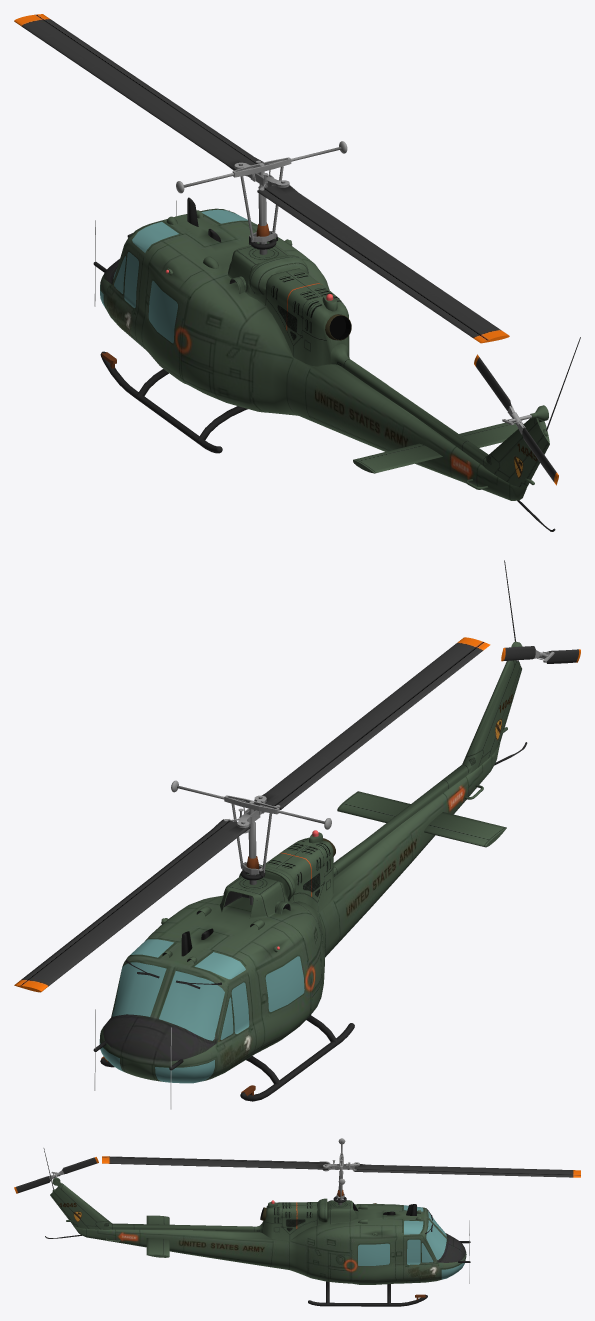
3 renders of one model, top to bottom at view 1: azimuth 30°, elevation 25°; view 2: azimuth 150°, elevation 25°; view 3: azimuth 270°, elevation 25°, orthographic. The views are drawn at different scales.
Parts seen in each view (by area): view 1: body|LineG05-FACES, rotor|Cylinder30-FACES, body|Line21-FACES, body|steklo-FACES, body|Line05-FACES, body|Cylinder01-FACES, body|Cylinder04-FACES, body|Cylinder02-FACES, rotor|Cylinder05-FACES, body|Line28-FACES, trotor|Cylinder11-FACES; view 2: body|LineG05-FACES, rotor|Cylinder30-FACES, body|steklo-FACES, body|Line21-FACES, body|Cylinder02-FACES, body|Line05-FACES, body|Cylinder01-FACES, body|Cylinder04-FACES, rotor|Cylinder05-FACES, trotor|Cylinder11-FACES; view 3: body|LineG05-FACES, rotor|Cylinder30-FACES, body|Line21-FACES, body|steklo-FACES, body|Cylinder01-FACES, body|Line05-FACES, body|Cylinder04-FACES, body|Cylinder02-FACES, trotor|Cylinder11-FACES, rotor|Cylinder05-FACES, body|Line28-FACES.
Boxes of the visible parts, bbox=[...] form: body|LineG05-FACES: bbox=[100, 208, 526, 500]; rotor|Cylinder30-FACES: bbox=[14, 14, 509, 343]; body|Line21-FACES: bbox=[228, 242, 349, 366]; body|steklo-FACES: bbox=[100, 209, 247, 343]; body|Line05-FACES: bbox=[93, 197, 580, 531]; body|Cylinder01-FACES: bbox=[483, 418, 549, 488]; body|Cylinder04-FACES: bbox=[330, 344, 488, 465]; body|Cylinder02-FACES: bbox=[353, 422, 518, 473]; rotor|Cylinder05-FACES: bbox=[176, 141, 347, 239]; body|Line28-FACES: bbox=[248, 255, 308, 295]; trotor|Cylinder11-FACES: bbox=[474, 354, 558, 485]; body|LineG05-FACES: bbox=[100, 743, 500, 1081]; rotor|Cylinder30-FACES: bbox=[14, 637, 490, 992]; body|steklo-FACES: bbox=[99, 939, 304, 1083]; body|Line21-FACES: bbox=[220, 837, 334, 918]; body|Cylinder02-FACES: bbox=[337, 791, 506, 847]; body|Line05-FACES: bbox=[93, 560, 527, 1101]; body|Cylinder01-FACES: bbox=[462, 660, 521, 774]; body|Cylinder04-FACES: bbox=[333, 764, 471, 876]; rotor|Cylinder05-FACES: bbox=[171, 780, 331, 870]; trotor|Cylinder11-FACES: bbox=[501, 646, 580, 663]; body|LineG05-FACES: bbox=[73, 1204, 466, 1284]; rotor|Cylinder30-FACES: bbox=[102, 1156, 580, 1177]; body|Line21-FACES: bbox=[263, 1200, 358, 1240]; body|steklo-FACES: bbox=[358, 1205, 464, 1279]; body|Cylinder01-FACES: bbox=[50, 1183, 112, 1229]; body|Line05-FACES: bbox=[43, 1148, 470, 1306]; body|Cylinder04-FACES: bbox=[108, 1222, 262, 1233]; body|Cylinder02-FACES: bbox=[146, 1215, 169, 1257]; trotor|Cylinder11-FACES: bbox=[14, 1157, 98, 1193]; rotor|Cylinder05-FACES: bbox=[323, 1138, 359, 1198]; body|Line28-FACES: bbox=[317, 1198, 327, 1222].
Bounding box in the file's own units: 3 × 4.92 × 17.28.
Materials: 32 (21 with a texture image).
